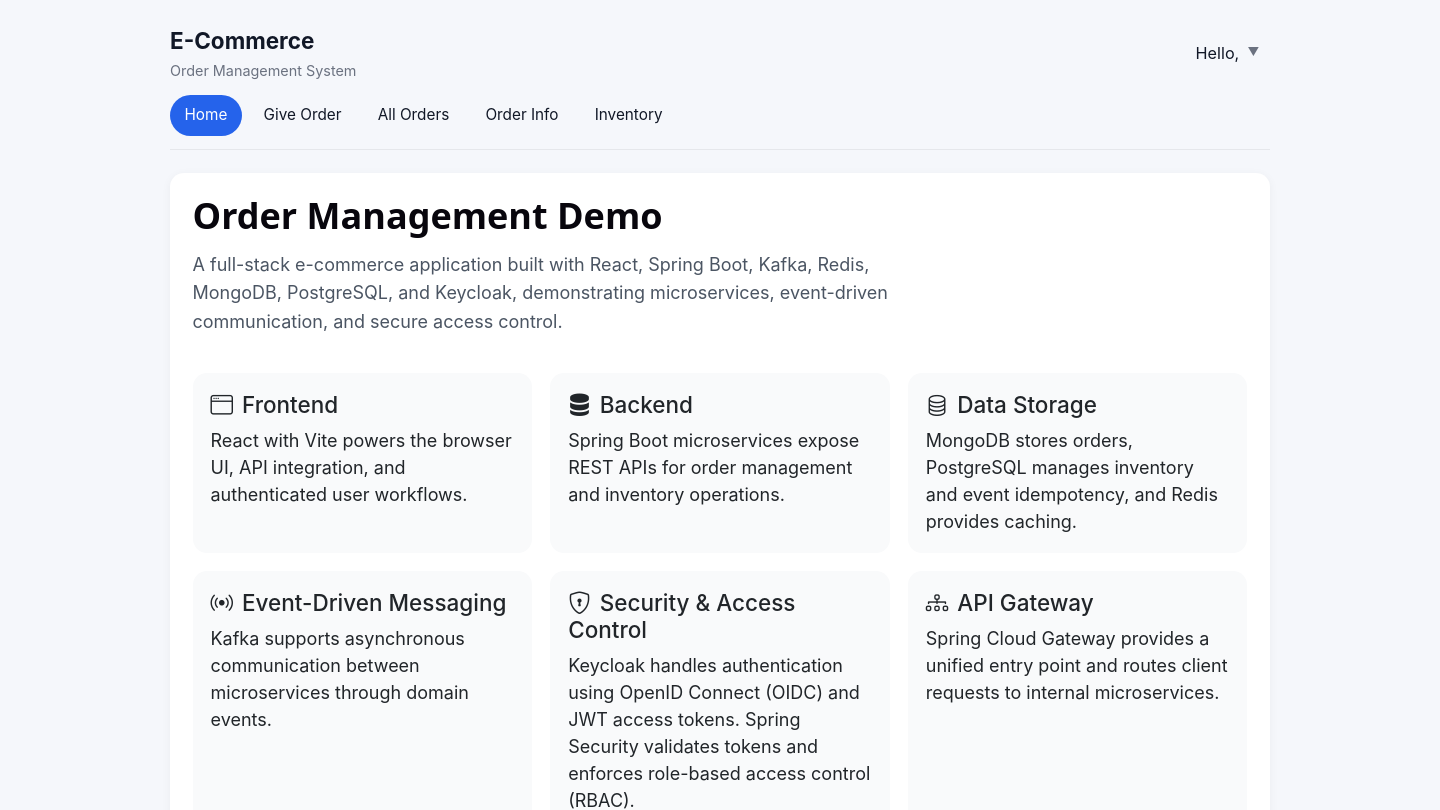
Test case: App › navigates between pages for an authenticated user
Click the button "Give Order" at (302, 115), box x1=249 y1=95 x2=356 y2=136
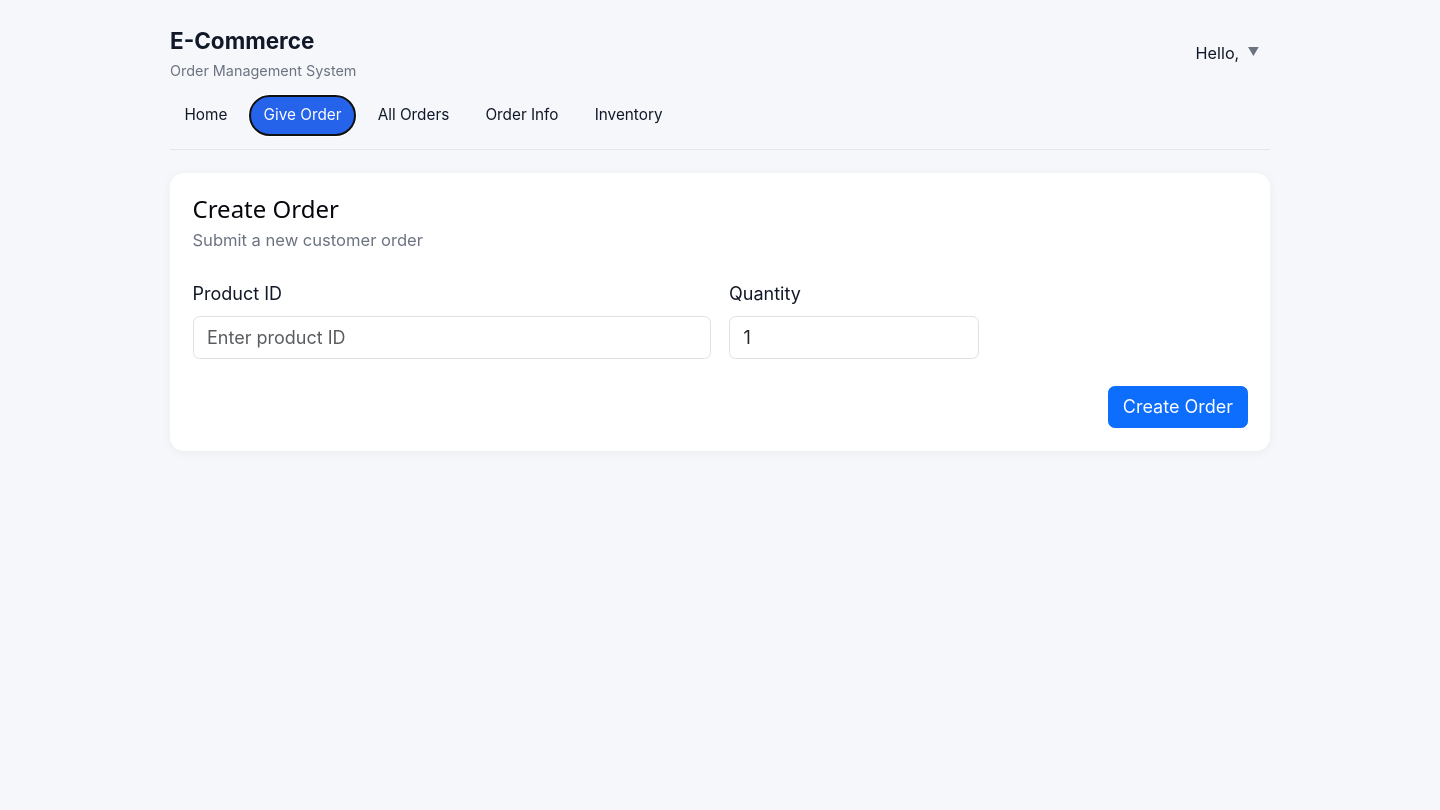
Check: the heading "Create Order" is shown, box x1=192 y1=192 x2=339 y2=226
Click the button "All Orders" at (413, 115), box x1=363 y1=95 x2=464 y2=136
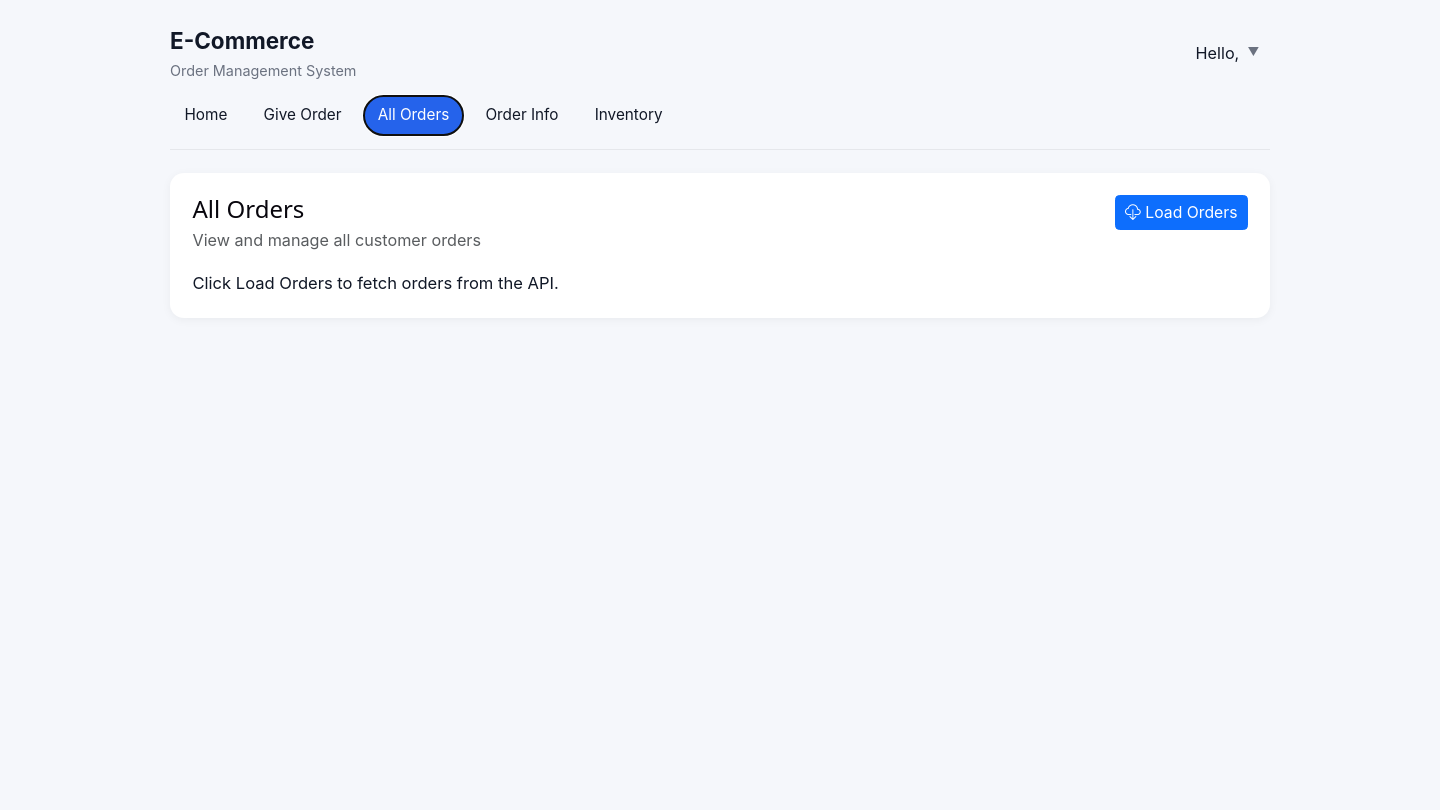
Check: the heading "All Orders" is shown, box x1=192 y1=192 x2=304 y2=226
Click the button "Order Info" at (522, 115), box x1=471 y1=95 x2=573 y2=136
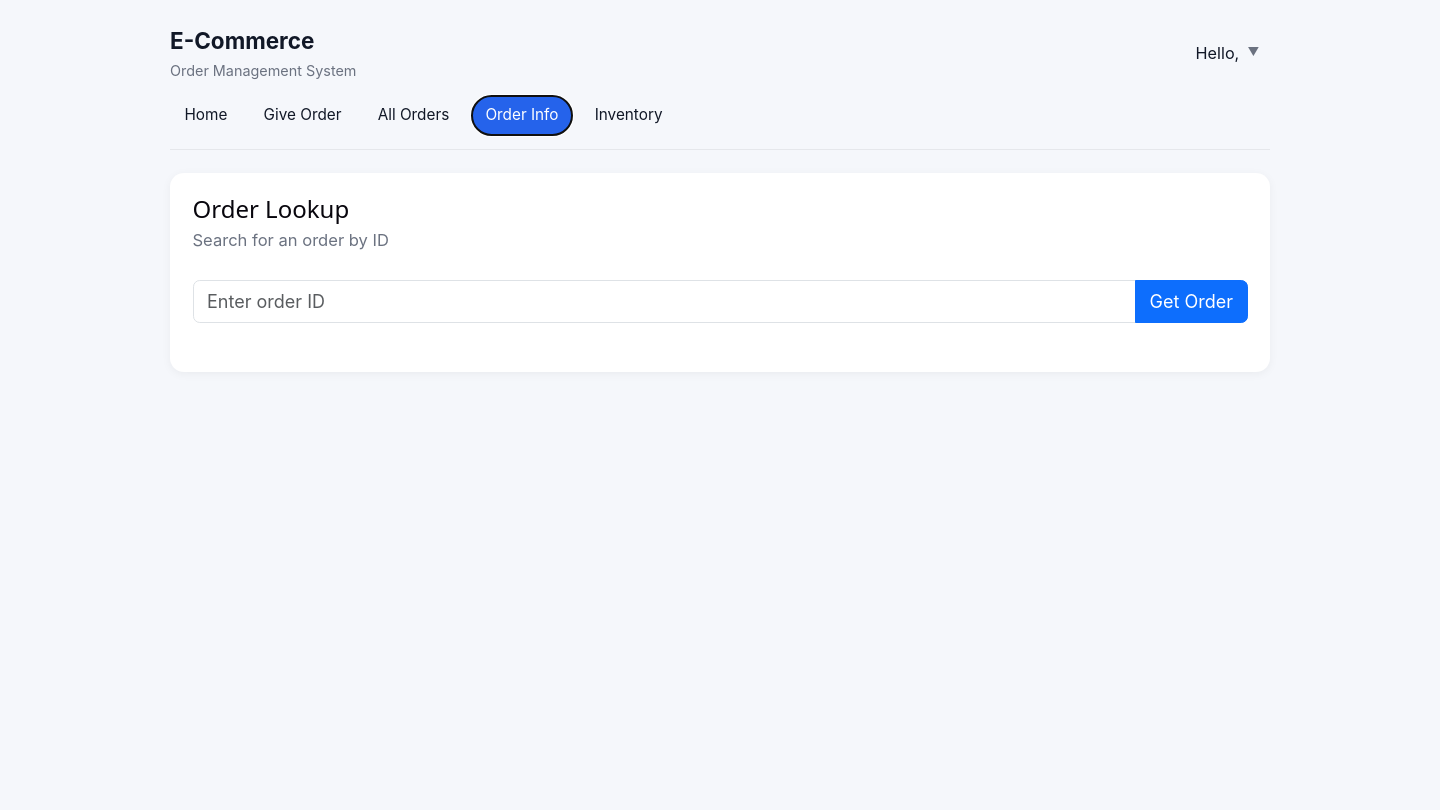
Check: the heading "Order Lookup" is shown, box x1=192 y1=192 x2=349 y2=226
